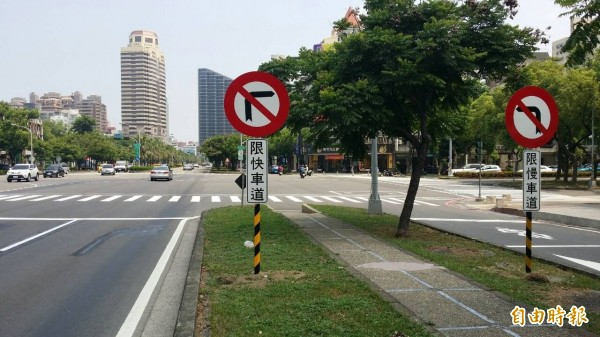No_left_turn: (505, 85, 558, 147)
No_right_turn: (223, 70, 291, 137)
